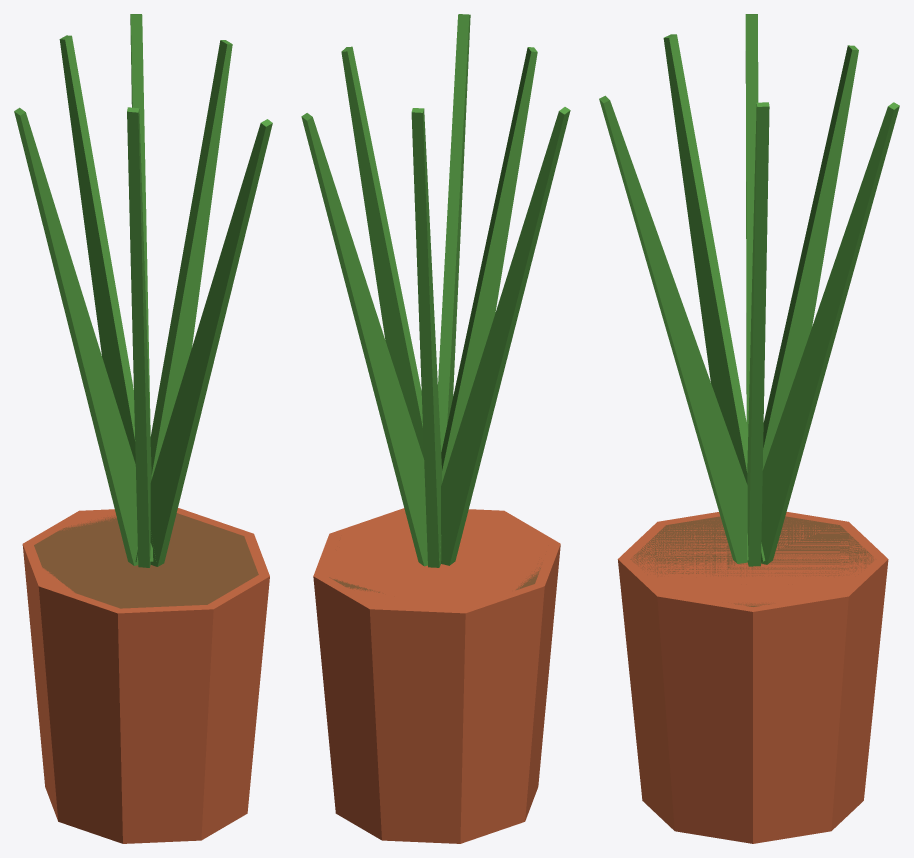
File: pottedPlant.glb
The picture shows the model from 3 angles, left to right: view 1: azimuth 30°, elevation 25°; view 2: azimuth 150°, elevation 25°; view 3: azimuth 270°, elevation 25°; orthographic projection.
Parts seen in each view (by area): view 1: pottedPlant; view 2: pottedPlant; view 3: pottedPlant.
Part boxes in pixels (x1,y1,x2,y2): pottedPlant: (14,14,272,843); pottedPlant: (301,14,570,843); pottedPlant: (599,14,899,843).
Bounding box in the file's own units: 0.22 × 0.65 × 0.24.
Materials: 1 (1 with a texture image).
